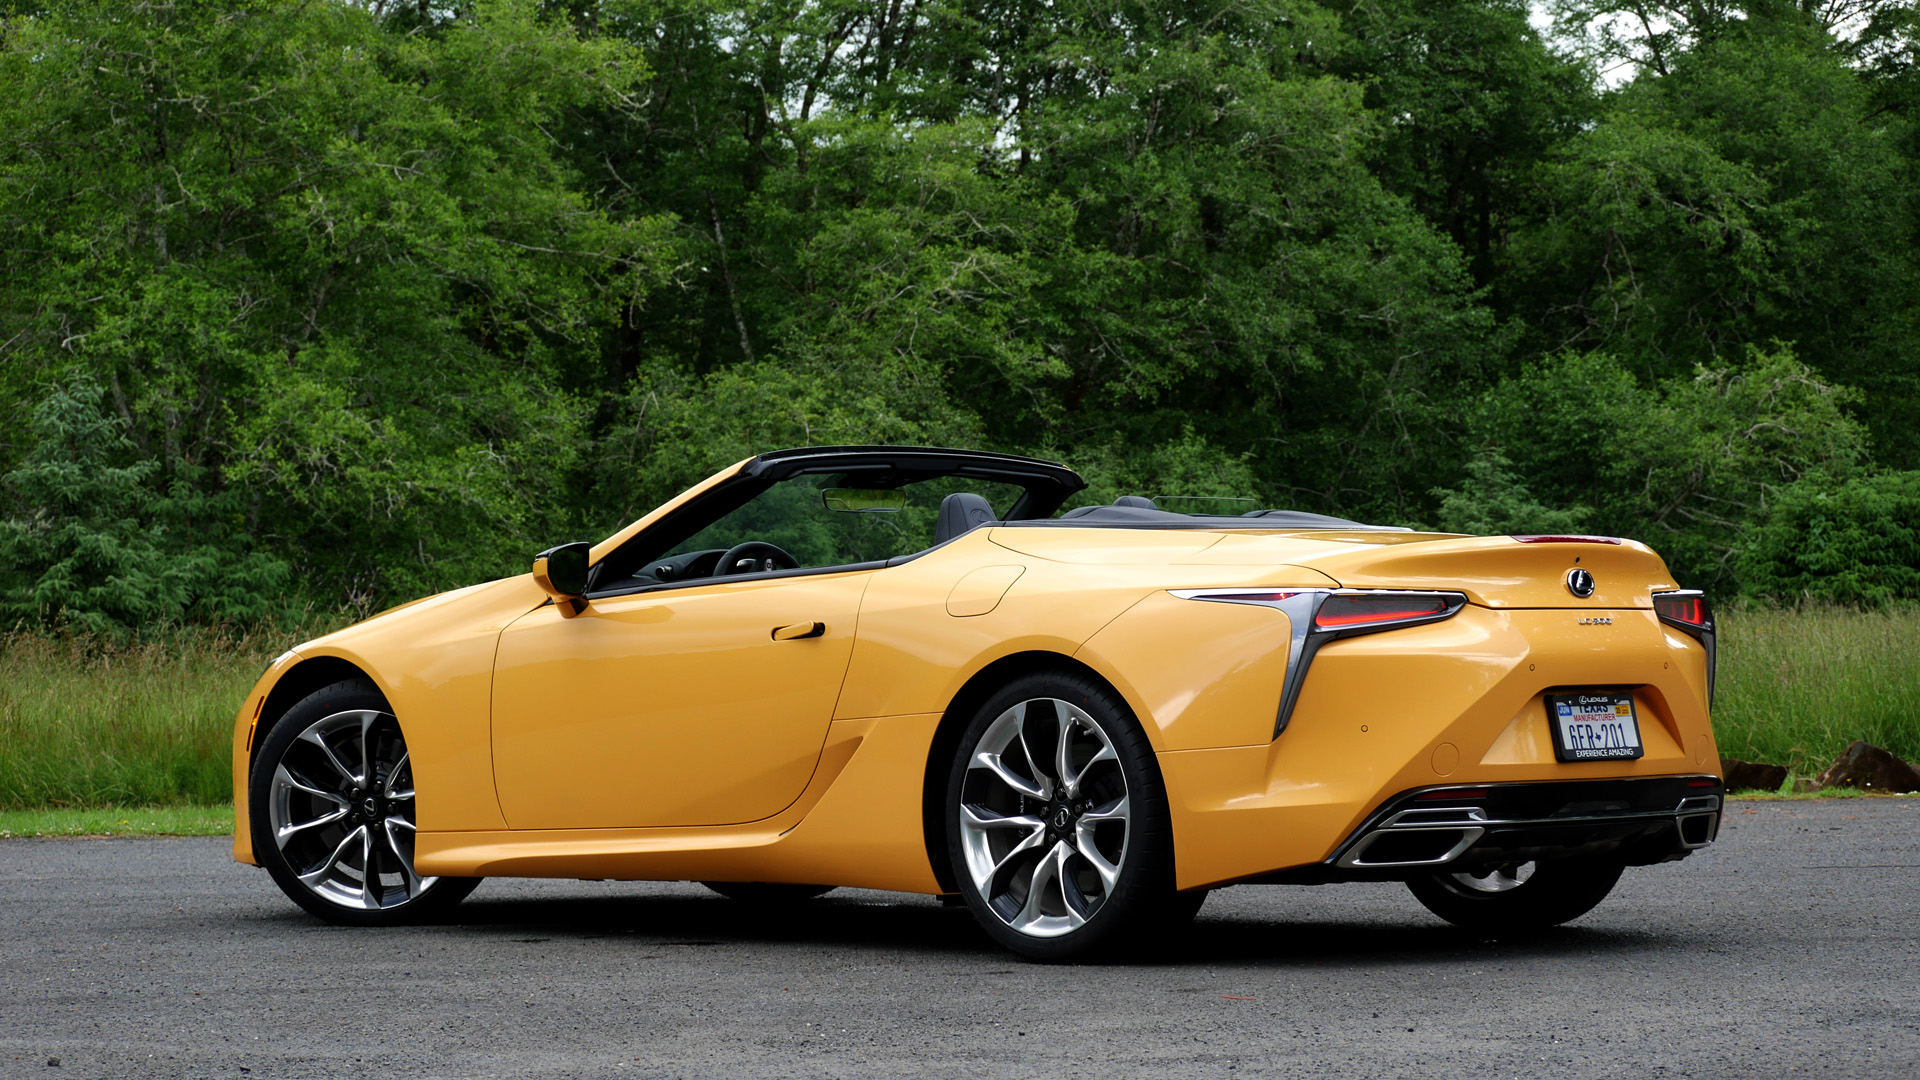car: (229, 444, 1724, 964)
